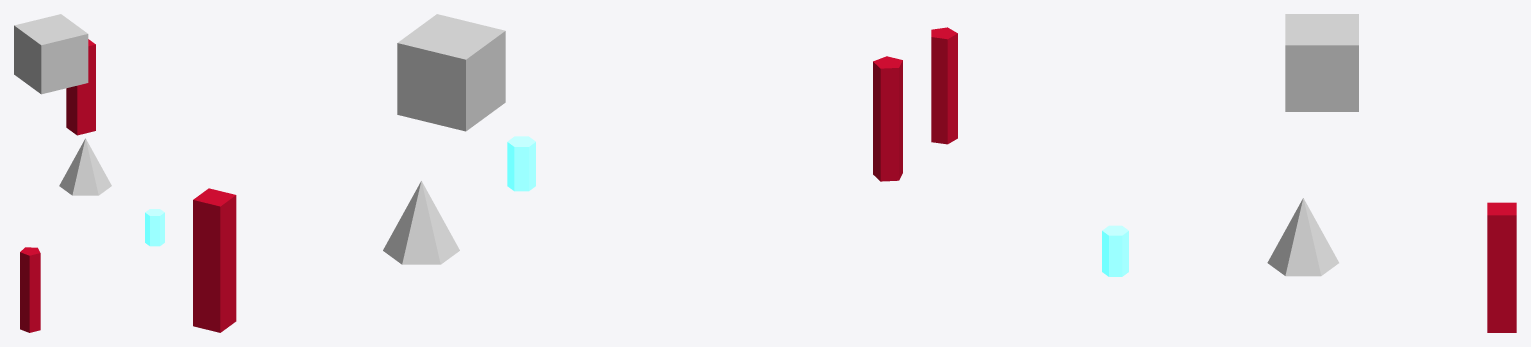
Rendered from Level1.glb.
3 views of the same model, side by side, from view 1: azimuth 30°, elevation 25°; view 2: azimuth 150°, elevation 25°; view 3: azimuth 270°, elevation 25° (orthographic). The views are drawn at different scales.
Visible parts, largest first — view 1: FallingCube, Cube.004, Cylinder, Test_comps, GlowyThing; view 2: FallingCube, Cube.004, Cylinder, Test_comps, GlowyThing; view 3: FallingCube, Cube.004, Test_comps, Cylinder, GlowyThing.
Part boxes in pixels (x1,y1,x2,y2): FallingCube: (14, 14, 88, 94); Cube.004: (66, 39, 95, 135); Cylinder: (20, 247, 40, 332); Test_comps: (59, 138, 111, 195); GlowyThing: (145, 209, 164, 246); FallingCube: (397, 14, 505, 131); Cube.004: (193, 188, 236, 332); Cylinder: (873, 56, 902, 181); Test_comps: (383, 181, 459, 264); GlowyThing: (507, 136, 535, 191); FallingCube: (1285, 14, 1358, 111); Cube.004: (1487, 202, 1516, 332); Test_comps: (1267, 198, 1338, 276); Cylinder: (931, 27, 957, 144); GlowyThing: (1102, 225, 1128, 276).
Size of what is drawn, in the model's own units: 29.18 by 17.44 by 39.66.
